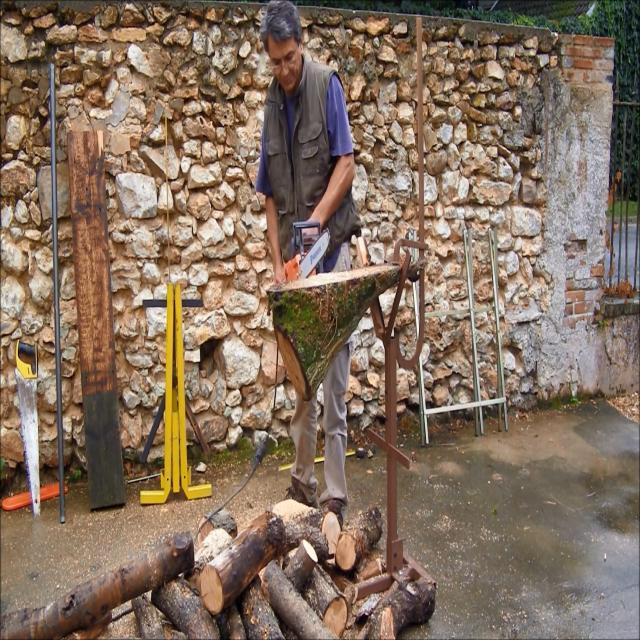Chainsaw: (266, 201, 348, 326)
